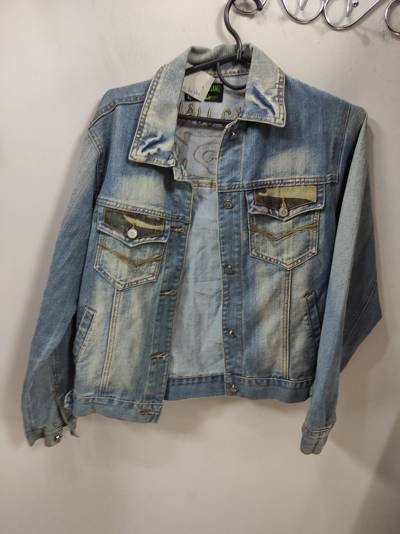Blazer: (9, 80, 378, 458)
